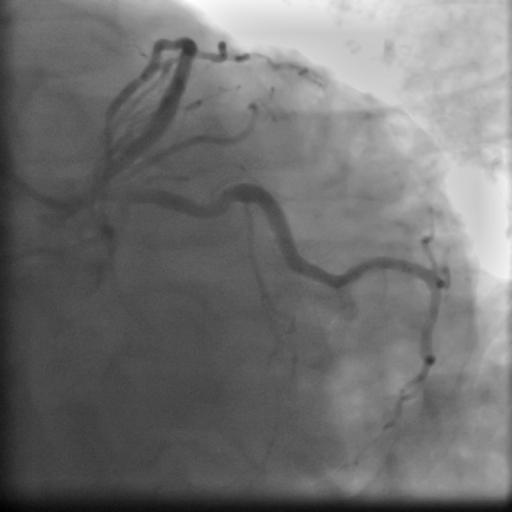Stenosis: (207, 189, 232, 209)
